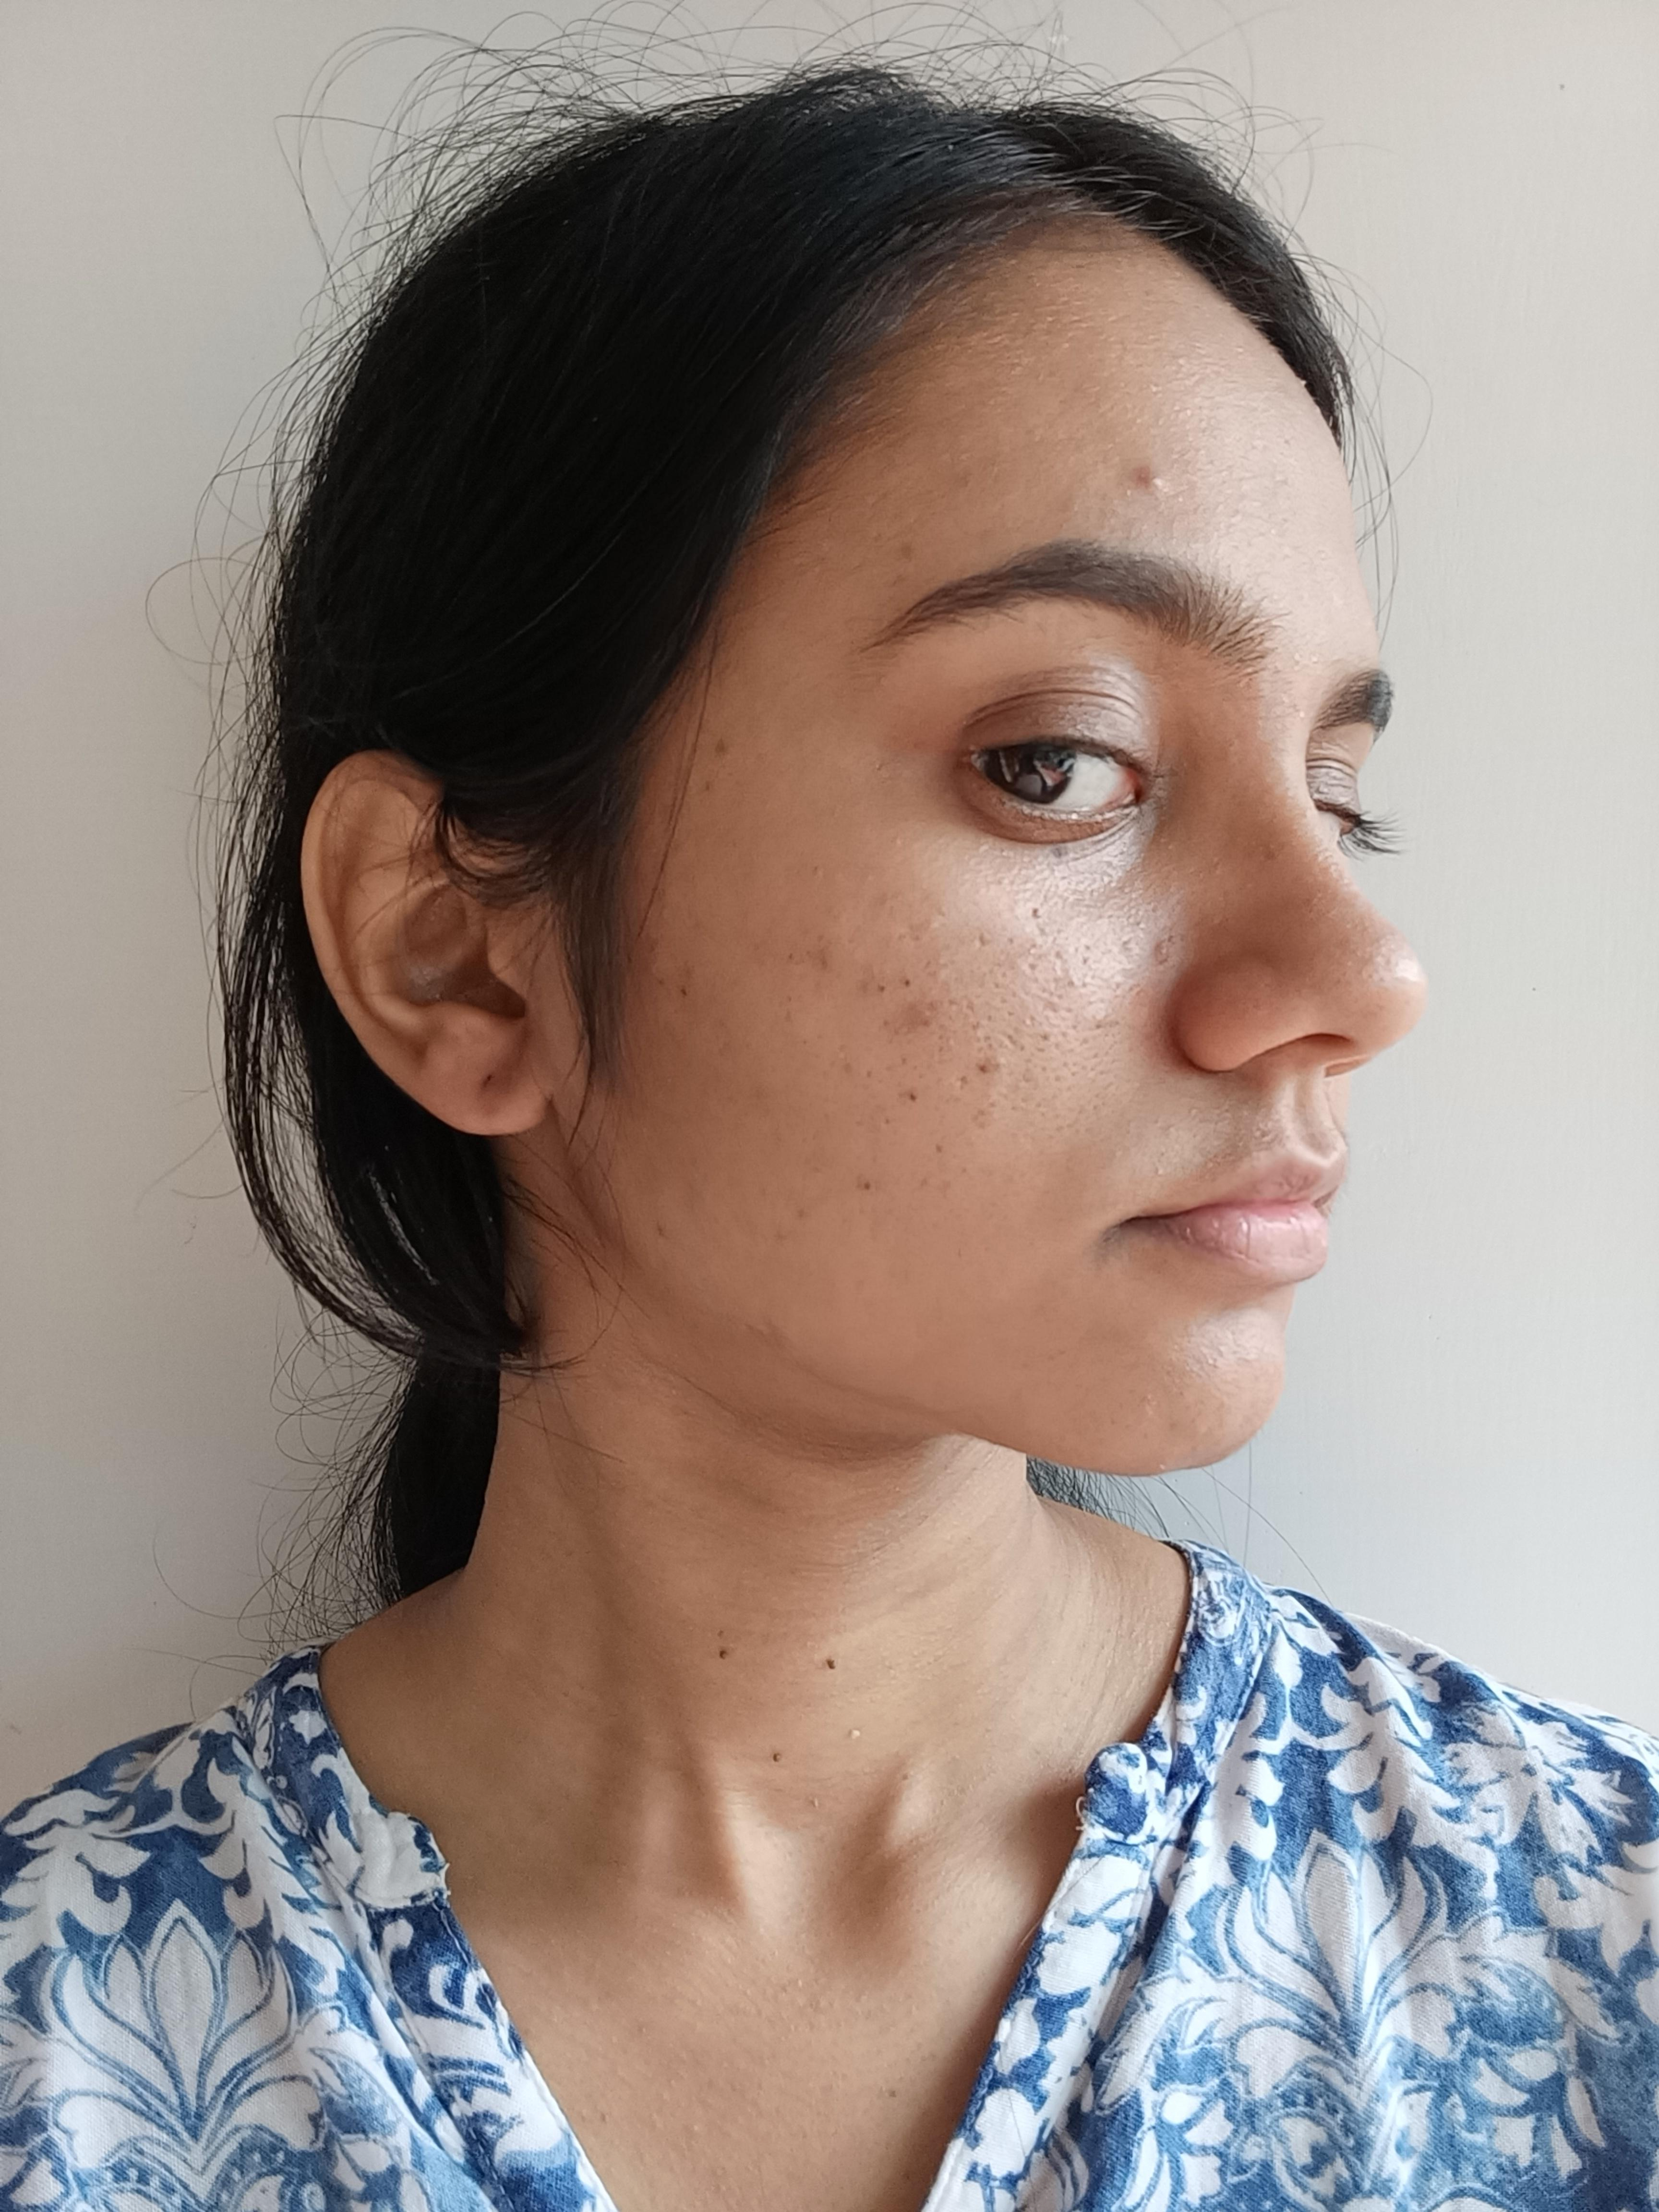Acne: (1121, 463, 1175, 502), (1145, 930, 1180, 968), (708, 726, 739, 761)
Englarged-Pores: (885, 941, 1127, 1129), (1333, 913, 1382, 988)
